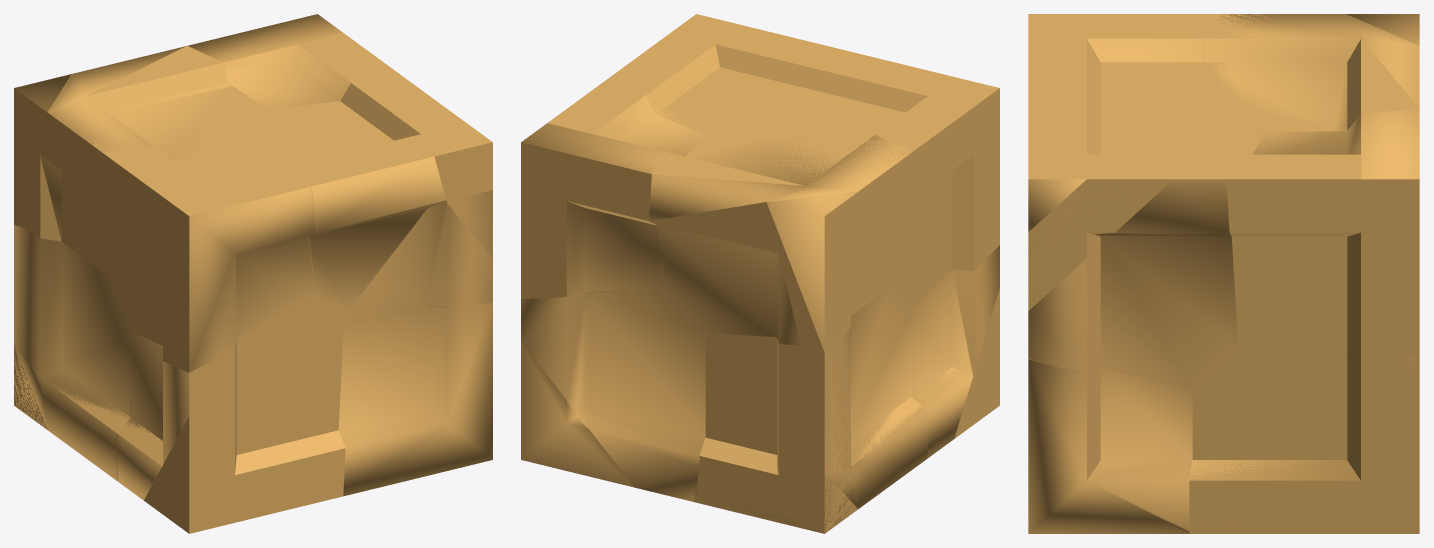
The model's file is Box Destroy.fbx.
3 renders of one model, left to right at view 1: azimuth 30°, elevation 25°; view 2: azimuth 150°, elevation 25°; view 3: azimuth 270°, elevation 25°, orthographic. The views are drawn at different scales.
Visible parts, largest first — view 1: Cube.112, Cube.112_cell.014, Cube.112_cell.009, Cube.112_cell, Cube.112_cell.007, Cube.112_cell.005, Cube.112_cell.002, Cube.112_cell.013, Cube.112_cell.015, Cube.112_cell.004, Cube.112_cell.016, Cube.112_cell.003 (+1 smaller); view 2: Cube.112, Cube.112_cell.001, Cube.112_cell.005, Cube.112_cell.009, Cube.112_cell.013, Cube.112_cell.015, Cube.112_cell.012, Cube.112_cell.003, Cube.112_cell.004, Cube.112_cell.010; view 3: Cube.112, Cube.112_cell.002, Cube.112_cell.014, Cube.112_cell.005, Cube.112_cell.004, Cube.112_cell.017, Cube.112_cell, Cube.112_cell.015, Cube.112_cell.006, Cube.112_cell.003.
Part boxes in pixels (bbox=[...]): Cube.112: bbox=[14, 33, 492, 533]; Cube.112_cell.014: bbox=[338, 303, 492, 496]; Cube.112_cell.009: bbox=[14, 225, 130, 480]; Cube.112_cell: bbox=[189, 186, 316, 372]; Cube.112_cell.007: bbox=[245, 79, 446, 313]; Cube.112_cell.005: bbox=[40, 46, 266, 240]; Cube.112_cell.002: bbox=[347, 202, 492, 312]; Cube.112_cell.013: bbox=[117, 331, 189, 500]; Cube.112_cell.015: bbox=[224, 44, 350, 108]; Cube.112_cell.004: bbox=[187, 14, 343, 62]; Cube.112_cell.016: bbox=[447, 190, 492, 259]; Cube.112_cell.003: bbox=[14, 74, 71, 112]; Cube.112: bbox=[521, 14, 999, 533]; Cube.112_cell.001: bbox=[521, 288, 705, 501]; Cube.112_cell.005: bbox=[649, 130, 911, 345]; Cube.112_cell.009: bbox=[777, 288, 927, 508]; Cube.112_cell.013: bbox=[911, 245, 999, 457]; Cube.112_cell.015: bbox=[566, 95, 707, 296]; Cube.112_cell.012: bbox=[521, 343, 632, 486]; Cube.112_cell.003: bbox=[766, 192, 857, 352]; Cube.112_cell.004: bbox=[521, 123, 666, 173]; Cube.112_cell.010: bbox=[698, 474, 857, 533]; Cube.112: bbox=[1028, 14, 1419, 533]; Cube.112_cell.002: bbox=[1028, 179, 1238, 389]; Cube.112_cell.014: bbox=[1028, 359, 1192, 533]; Cube.112_cell.005: bbox=[1204, 14, 1419, 132]; Cube.112_cell.004: bbox=[1361, 108, 1419, 179]; Cube.112_cell.017: bbox=[1189, 351, 1385, 533]; Cube.112_cell: bbox=[1087, 38, 1204, 62]; Cube.112_cell.015: bbox=[1252, 114, 1360, 342]; Cube.112_cell.006: bbox=[1028, 179, 1086, 231]; Cube.112_cell.003: bbox=[1345, 14, 1419, 45].
Size of the model in its own units: 200 by 200 by 200.
